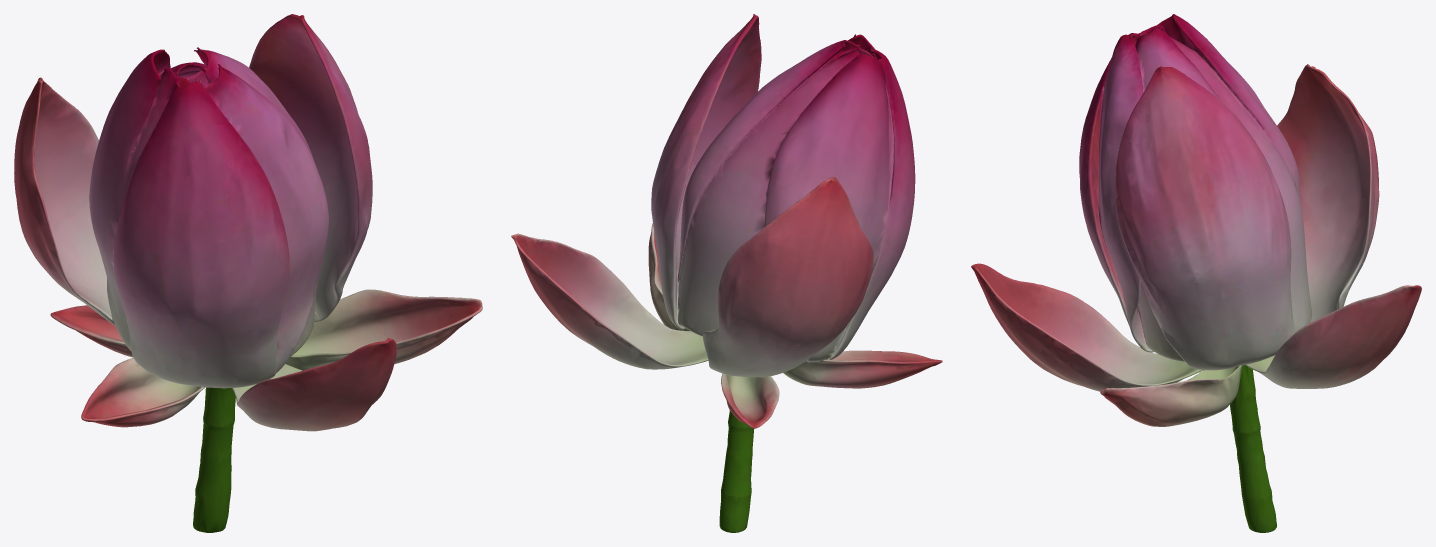
File: sz-lotus.glb
3 renders of one model, left to right at view 1: azimuth 30°, elevation 25°; view 2: azimuth 150°, elevation 25°; view 3: azimuth 270°, elevation 25°, orthographic. The views are drawn at different scales.
Visible parts, largest first — view 1: tripo_node_9eb427be-0b10-482a-b7af-4b836ffba2ad; view 2: tripo_node_9eb427be-0b10-482a-b7af-4b836ffba2ad; view 3: tripo_node_9eb427be-0b10-482a-b7af-4b836ffba2ad.
Part boxes in pixels (x1,y1,x2,y2): tripo_node_9eb427be-0b10-482a-b7af-4b836ffba2ad: (14, 14, 482, 532); tripo_node_9eb427be-0b10-482a-b7af-4b836ffba2ad: (511, 14, 942, 532); tripo_node_9eb427be-0b10-482a-b7af-4b836ffba2ad: (971, 14, 1421, 532).
Bounding box in the file's own units: 0.704 × 0.9999 × 0.8585.
Materials: 1 (1 with a texture image).
